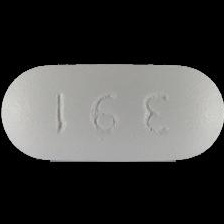61919-178: (0, 0, 224, 224)
